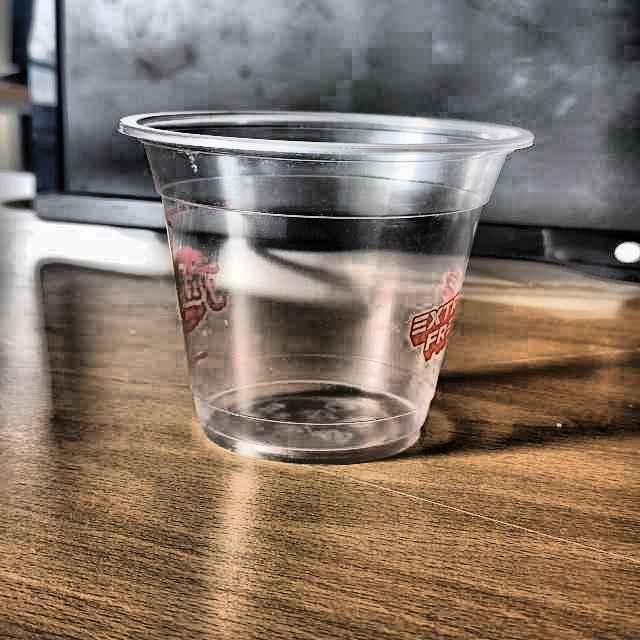plastic cup: (120, 105, 538, 462)
